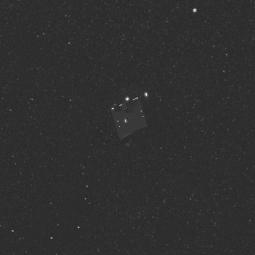proba_3_ocs: (100, 85, 160, 147)
